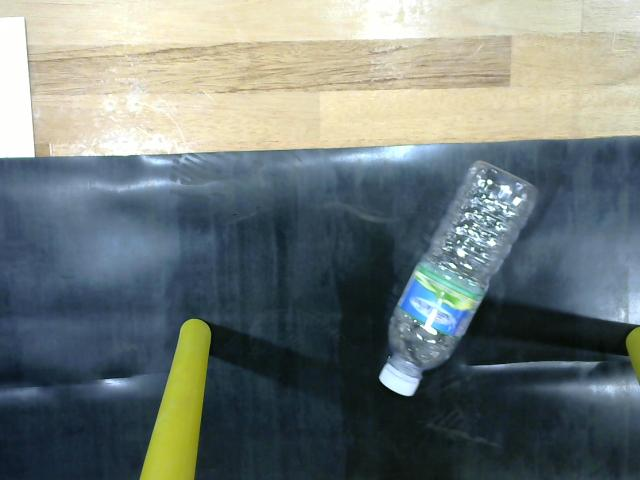bottle: (370, 150, 551, 401)
